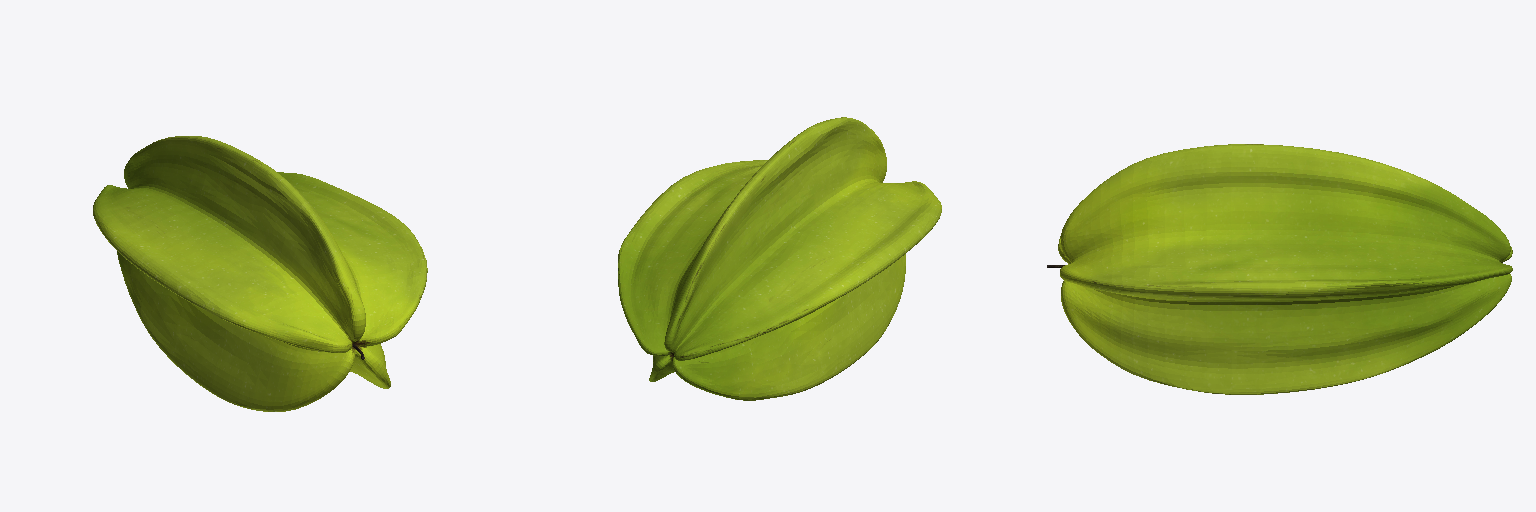
3 renders of one model, left to right at view 1: azimuth 30°, elevation 25°; view 2: azimuth 150°, elevation 25°; view 3: azimuth 270°, elevation 25°, orthographic.
Visible parts, largest first — view 1: _AM130_001_006; view 2: _AM130_001_006; view 3: _AM130_001_006.
Part boxes in pixels (bbox=[...]): _AM130_001_006: bbox=[93, 136, 427, 411]; _AM130_001_006: bbox=[618, 117, 941, 400]; _AM130_001_006: bbox=[1047, 144, 1512, 394].
Size of the model in its own units: 7.06 by 6.01 by 11.93.
1 materials, 1 textured.